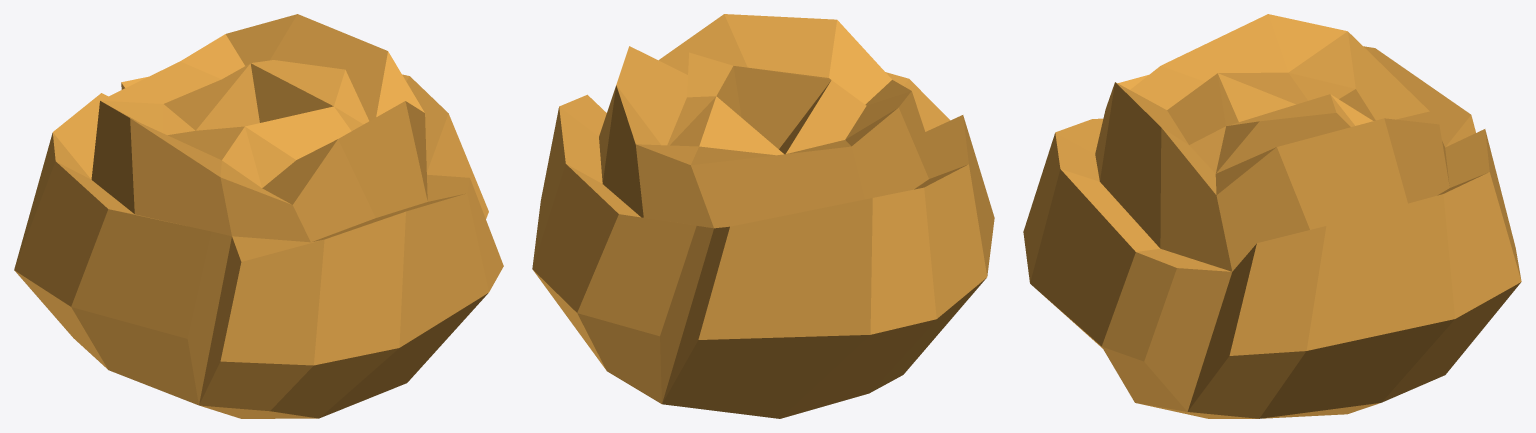
Rendered from plant-salad.fbx.
The picture shows the model from 3 angles, left to right: view 1: azimuth 30°, elevation 25°; view 2: azimuth 150°, elevation 25°; view 3: azimuth 270°, elevation 25°; orthographic projection. The views are drawn at different scales.
Parts seen in each view (by area): view 1: plant-salad; view 2: plant-salad; view 3: plant-salad.
Part boxes in pixels (x1,y1,x2,y2): plant-salad: [14, 14, 503, 418]; plant-salad: [532, 14, 994, 418]; plant-salad: [1023, 14, 1521, 418].
Bounding box in the file's own units: 0.3884 × 0.2701 × 0.3864.
